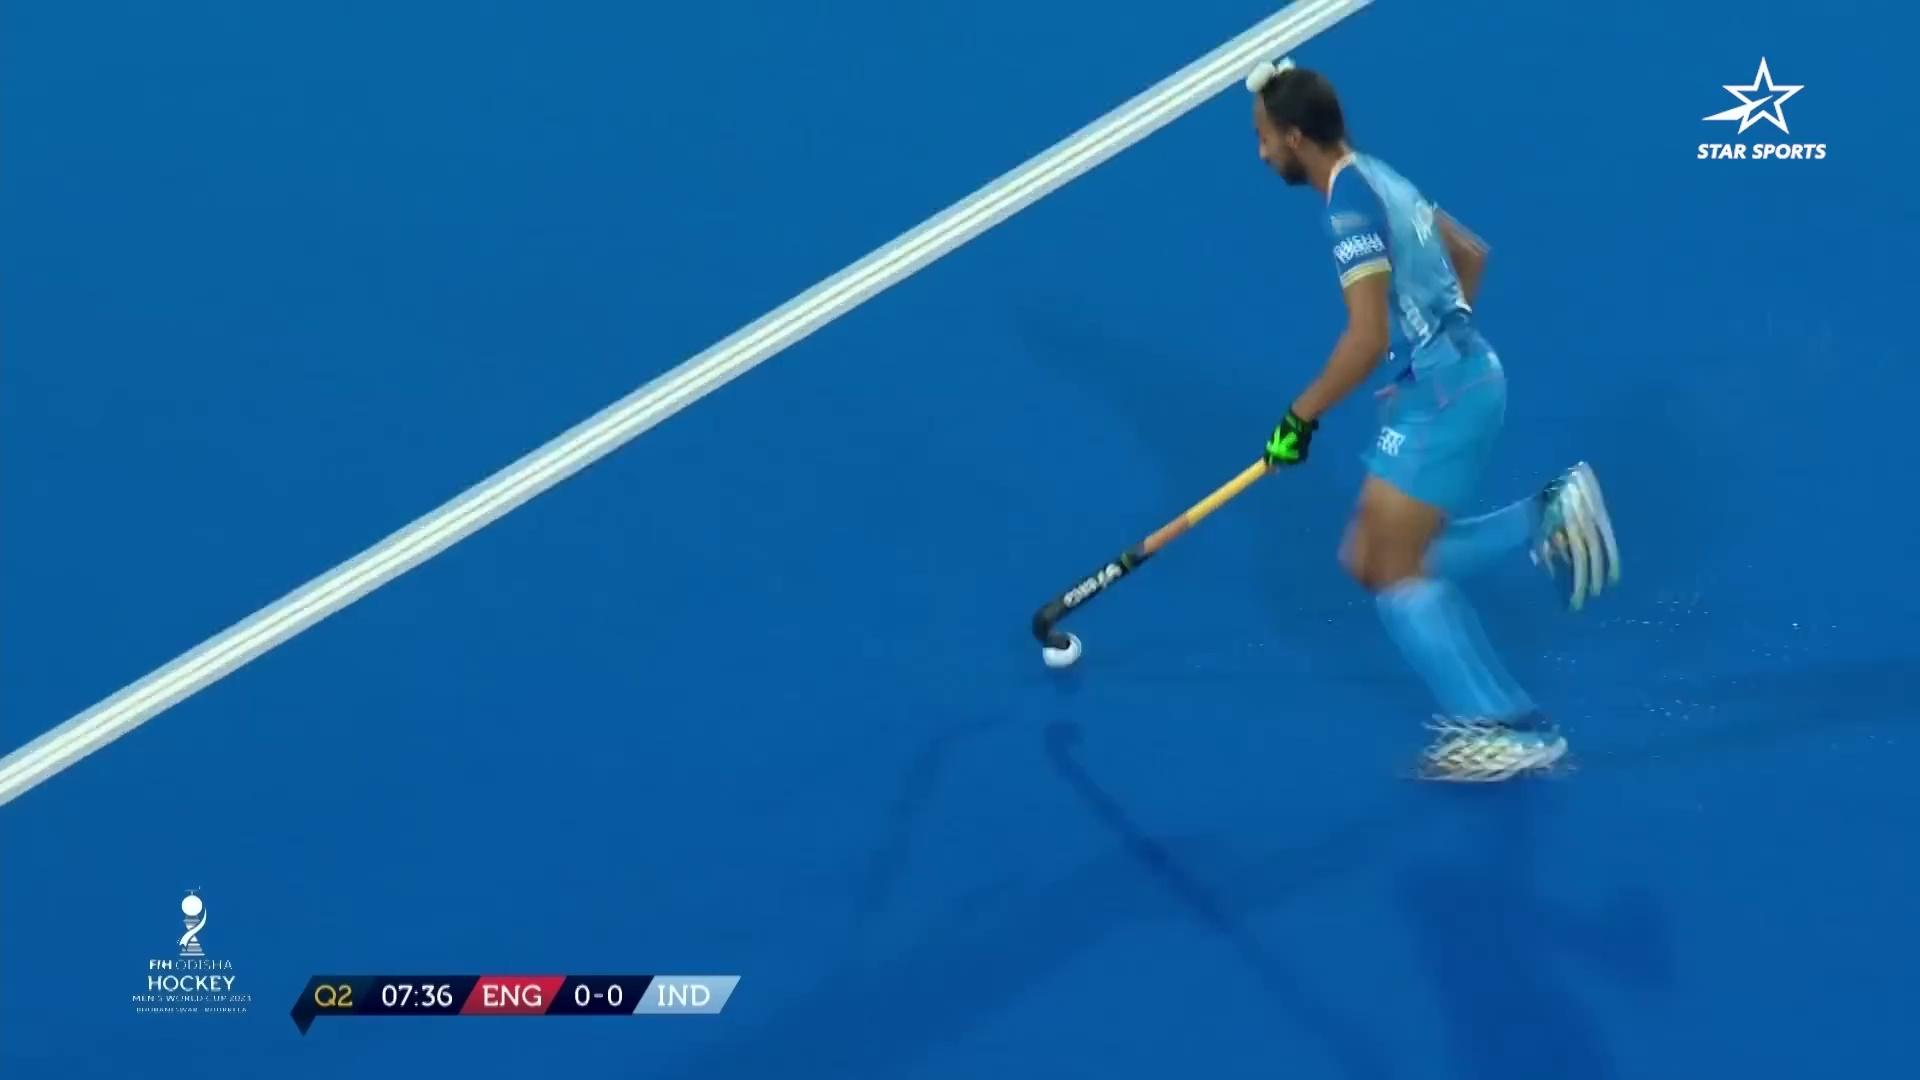ball: (1026, 604, 1101, 696)
